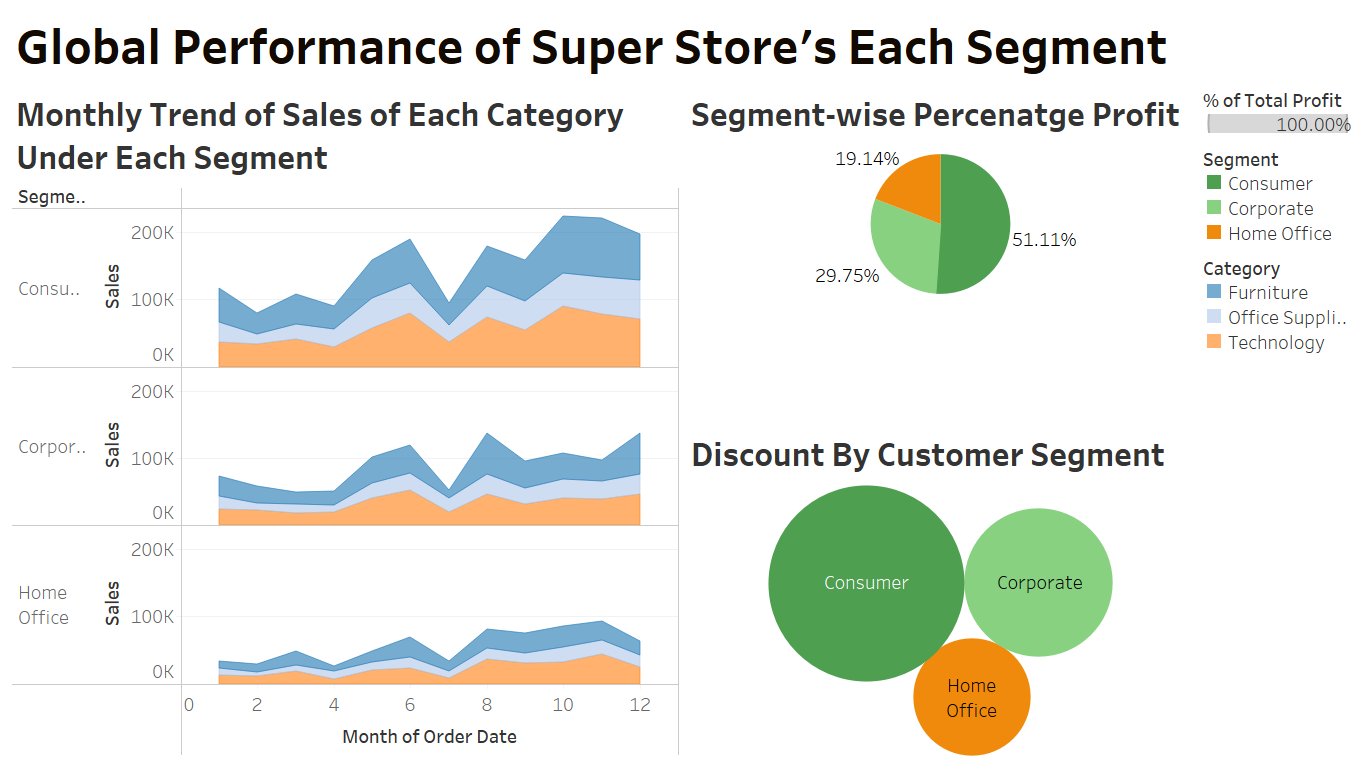

The page's visual inventory and layout, read from the dashboard file:
{"tool":"tableau","page":{"name":"Dashboard 3","canvas":[1366,768],"ordinal":1},"visuals":[{"type":"title","box":[8,8,1350,73]},{"type":"worksheet","title":"Sheet 16","mark":"Area","rows":["Segment","Sales"],"cols":["Order Date"],"box":[8,81,675,679]},{"type":"worksheet","title":"Sheet 9","mark":"Pie","box":[683,81,515,339.5]},{"type":"legend","title":"Sheet 9","param":"[federated.1e4h40q1rt7zu312f01az0g4erg2].[pcto:sum:Profit:qk:5]","box":[1198,81,160,59]},{"type":"legend","title":"Sheet 11","param":"[federated.1e4h40q1rt7zu312f01az0g4erg2].[none:Segment:nk]","box":[1198,140,160,109]},{"type":"legend","title":"Sheet 16","param":"[federated.1e4h40q1rt7zu312f01az0g4erg2].[none:Category:nk]","box":[1198,249,160,109]},{"type":"worksheet","title":"Sheet 11","mark":"Circle","box":[683,420.5,515,339.5]}]}

Visuals, with their boxes in screenshot pixels (x1, y1, x2, y2), scaled from the page's 1366x768 canvas onto the 1366x768 screenshot:
title: {"left": 8, "top": 8, "right": 1358, "bottom": 81}
"Sheet 16" worksheet (Area marks): {"left": 8, "top": 81, "right": 683, "bottom": 760}
"Sheet 9" worksheet (Pie marks): {"left": 683, "top": 81, "right": 1198, "bottom": 420}
"Sheet 9" legend: {"left": 1198, "top": 81, "right": 1358, "bottom": 140}
"Sheet 11" legend: {"left": 1198, "top": 140, "right": 1358, "bottom": 249}
"Sheet 16" legend: {"left": 1198, "top": 249, "right": 1358, "bottom": 358}
"Sheet 11" worksheet (Circle marks): {"left": 683, "top": 420, "right": 1198, "bottom": 760}
